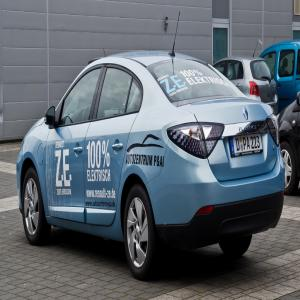Vehicle-registration-plate: (229, 132, 264, 160)
